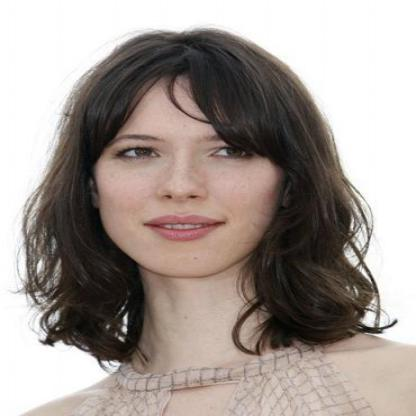long-hair: (11, 276, 396, 341)
